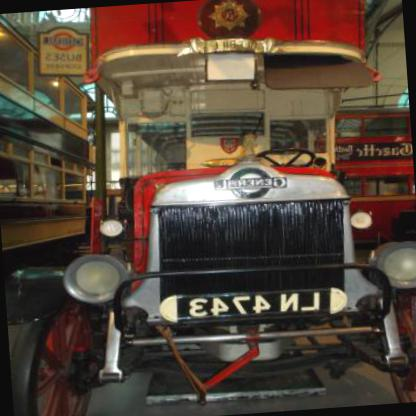bus: (0, 0, 415, 415), (0, 7, 114, 284), (328, 104, 415, 248)
